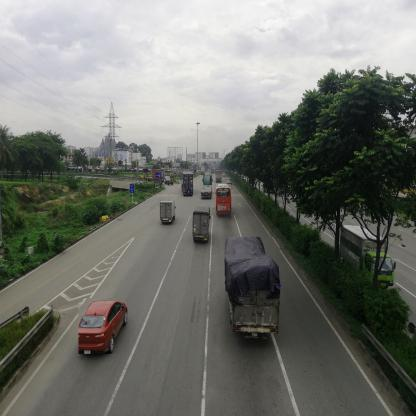bus: (217, 185, 232, 217)
car: (80, 299, 131, 355)
container: (182, 171, 193, 198), (201, 176, 212, 201), (140, 170, 165, 181)
truck: (226, 238, 281, 338), (341, 227, 397, 284), (195, 208, 211, 244), (161, 202, 176, 227), (217, 170, 223, 184), (165, 178, 174, 185)
